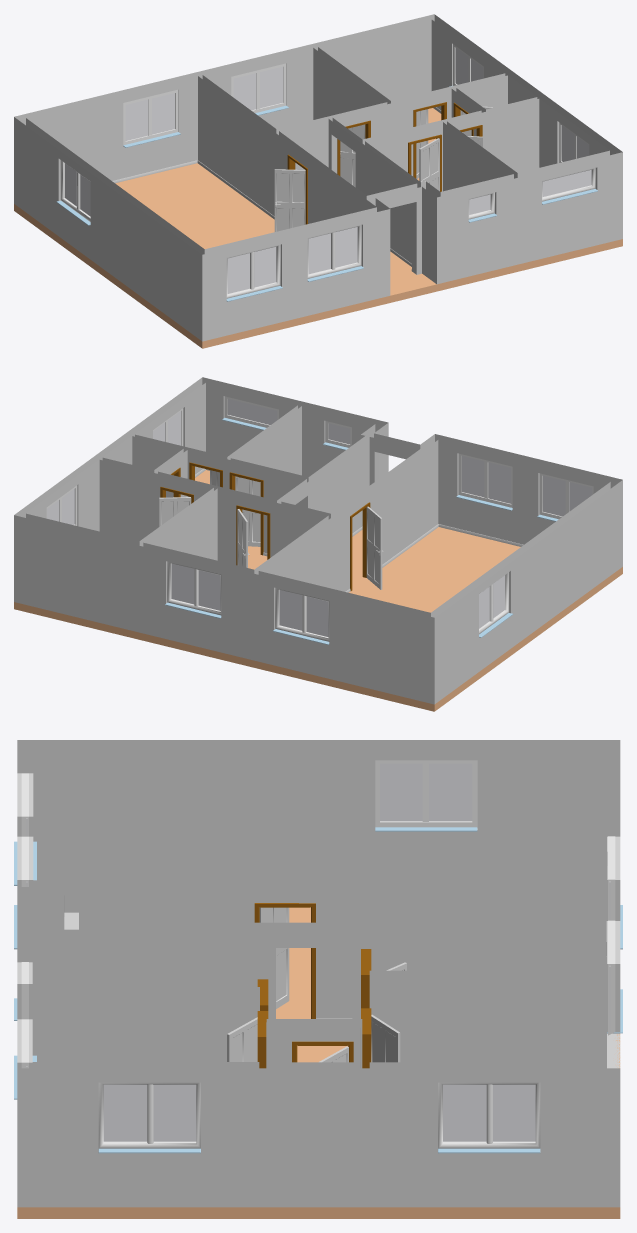
The model's file is Haus1.dae.
3 renders of one model, top to bottom at view 1: azimuth 30°, elevation 25°; view 2: azimuth 150°, elevation 25°; view 3: azimuth 270°, elevation 25°, orthographic. The views are drawn at different scales.
Parts seen in each view (by area): view 1: MAUERWERK, Glas (×8), Deckfläche_1, BODEN, Rahmen (×4), Würfel (×2), Sweep; view 2: MAUERWERK, Glas (×8), Deckfläche_1, BODEN, Rahmen (×3), Würfel, ZARGE, Sweep; view 3: MAUERWERK, Glas (×3), BODEN, Rahmen (×5), Deckfläche_1, ZARGE, FENSTER.1.
Boxes of the visible parts, x1,y1,x2,y2 form: MAUERWERK: [14, 14, 622, 341]; Glas (×8): [65, 48, 591, 293]; Deckfläche_1: [115, 108, 441, 295]; BODEN: [14, 204, 622, 348]; Rahmen (×4): [123, 63, 361, 298]; Würfel (×2): [274, 138, 439, 231]; Sweep: [112, 160, 274, 219]; MAUERWERK: [14, 377, 622, 704]; Glas (×8): [47, 399, 592, 637]; Deckfläche_1: [195, 470, 520, 612]; BODEN: [14, 567, 622, 711]; Rahmen (×3): [167, 453, 512, 641]; Würfel: [366, 506, 382, 589]; ZARGE: [350, 502, 370, 590]; Sweep: [345, 524, 523, 592]; MAUERWERK: [17, 740, 620, 1207]; Glas (×3): [103, 763, 535, 1141]; BODEN: [17, 1207, 620, 1218]; Rahmen (×5): [98, 760, 615, 1148]; Deckfläche_1: [276, 907, 620, 1068]; ZARGE: [254, 903, 315, 1018]; FENSTER.1: [606, 921, 620, 1033].
Bounding box in the file's own units: 1227 × 260 × 953.
